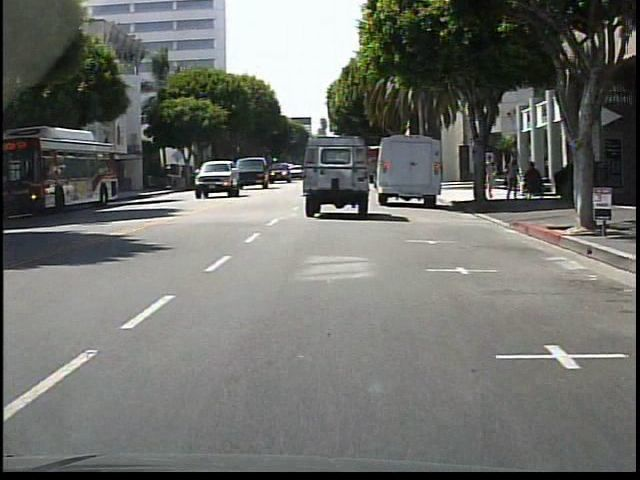person: (505, 162, 520, 203), (484, 156, 498, 199)
